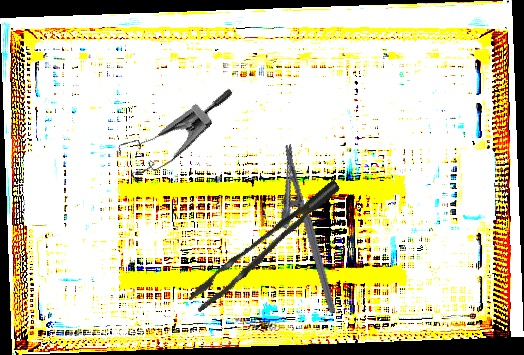Needle Holder: (260, 143, 338, 320)
Speculum: (107, 56, 235, 198)
Tissue Forceps: (177, 179, 355, 314)
